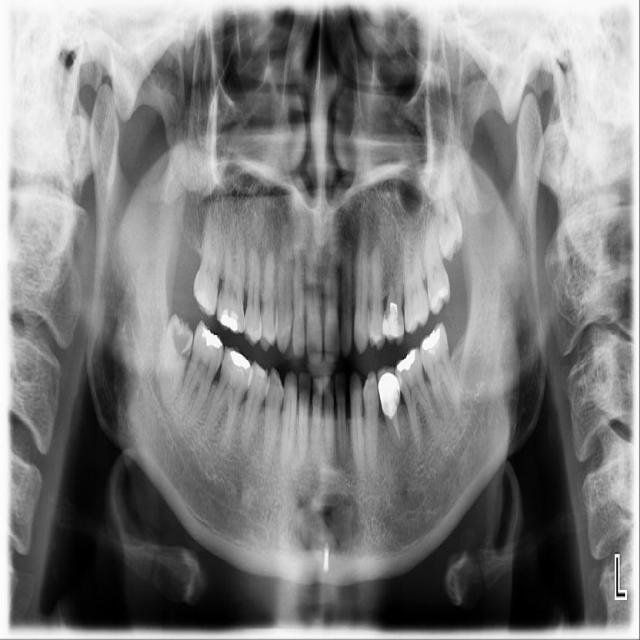Caries: (171, 324, 191, 362)
Crown: (378, 365, 402, 416)
Filling: (382, 303, 404, 345), (421, 325, 444, 356), (216, 307, 242, 334), (200, 328, 227, 352), (227, 350, 253, 374), (395, 350, 417, 374)
Root Canal Treatment: (395, 416, 402, 442)
impacted tooth: (149, 311, 196, 420), (438, 159, 464, 262)
